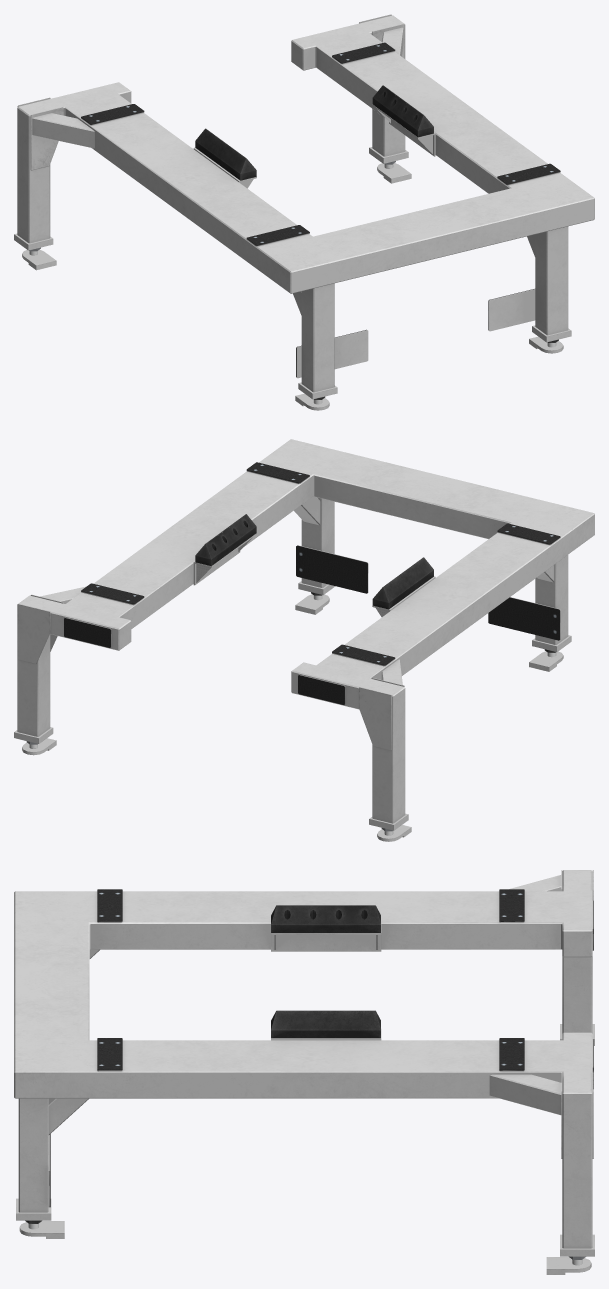
File: Otto1500_StandHigh.fbx
3 views of the same model, one above another, from view 1: azimuth 30°, elevation 25°; view 2: azimuth 150°, elevation 25°; view 3: azimuth 270°, elevation 25° (orthographic). The views are drawn at different scales.
Parts seen in each view (by area): view 1: Otto1500_StandHigh; view 2: Otto1500_StandHigh; view 3: Otto1500_StandHigh.
Part boxes in pixels (x1=…): Otto1500_StandHigh: x1=14, y1=14, x2=594, y2=410; Otto1500_StandHigh: x1=14, y1=439, x2=594, y2=841; Otto1500_StandHigh: x1=14, y1=870, x2=594, y2=1274.
Size of the model in its own units: 205 by 188 by 80.08.
Materials: 1 (1 with a texture image).
